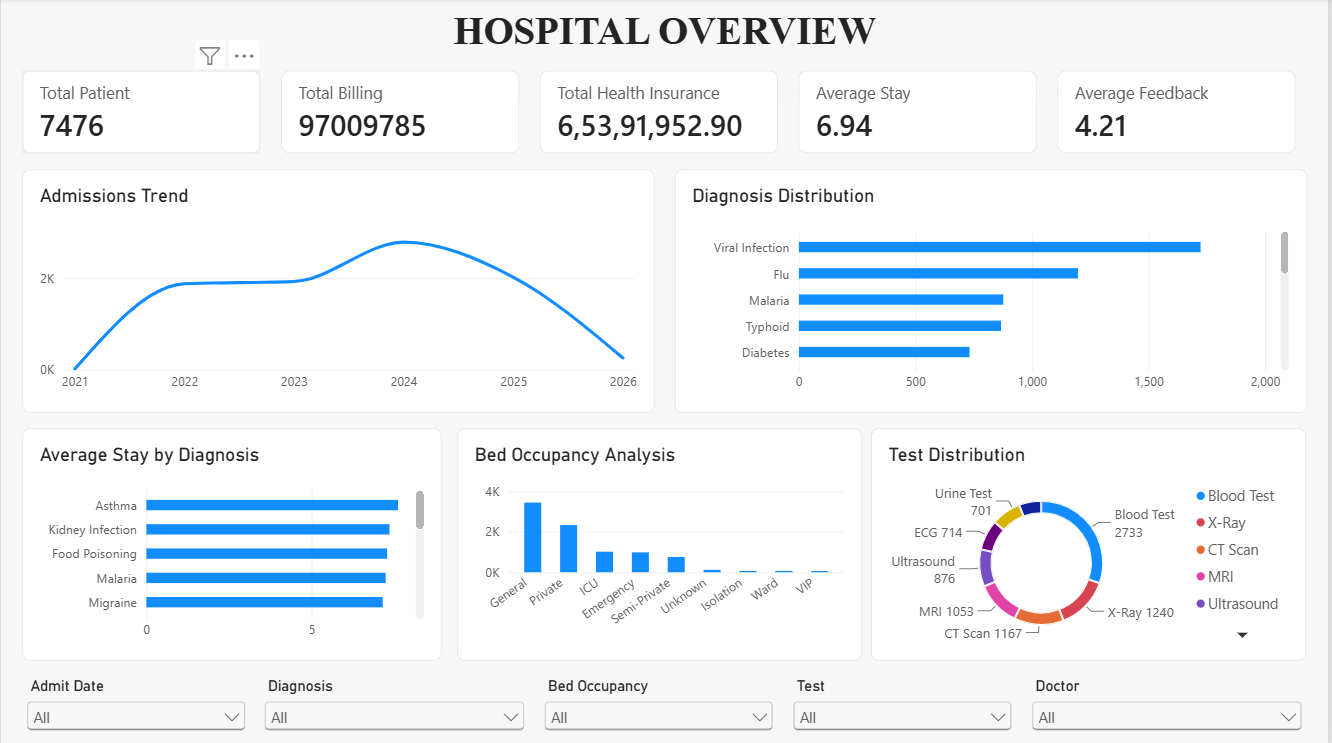

The page's visual inventory and layout, read from the dashboard file:
{"tool":"powerbi","page":{"name":"Hospital Overview","canvas":[1280,720],"ordinal":0},"visuals":[{"type":"textbox","box":[20,10,1240,45],"z":0},{"type":"cardVisual","fields":{"Data":["Count(Healthcare_Cleaned.Patient_ID)"]},"box":[20,70,230,80],"z":1000},{"type":"cardVisual","fields":{"Data":["Sum(Healthcare_Cleaned.Billing Amount)"]},"box":[270,70,230,80],"z":2000},{"type":"cardVisual","fields":{"Data":["Sum(Healthcare_Cleaned.Health Insurance Amount)"]},"box":[520,70,230,80],"z":3000},{"type":"cardVisual","fields":{"Data":["Avg(Healthcare_Cleaned.Stay_Days)"]},"box":[770,70,230,80],"z":4000},{"type":"cardVisual","fields":{"Data":["Avg(Healthcare_Cleaned.Feedback)"]},"box":[1020,70,230,80],"z":5000},{"type":"lineChart","title":"Admissions Trend","fields":{"Category":["Healthcare_Cleaned.Admit_Date.Variation.Date Hierarchy.Year","Healthcare_Cleaned.Admit_Date.Variation.Date Hierarchy.Quarter","Healthcare_Cleaned.Admit_Date.Variation.Date Hierarchy.Month"],"Y":["Count(Healthcare_Cleaned.Patient_ID)"]},"box":[20,165,610,235],"z":6000},{"type":"clusteredBarChart","title":"Diagnosis Distribution","fields":{"Category":["Healthcare_Cleaned.Diagnosis"],"Y":["Count(Healthcare_Cleaned.Patient_ID)"]},"box":[650,165,610,235],"z":7000},{"type":"clusteredBarChart","title":"Average Stay by Diagnosis","fields":{"Category":["Healthcare_Cleaned.Diagnosis"],"Y":["Avg(Healthcare_Cleaned.Stay_Days)"]},"box":[20,415,405,225],"z":8000},{"type":"clusteredColumnChart","title":"Bed Occupancy Analysis","fields":{"Category":["Healthcare_Cleaned.Bed_Occupancy"],"Y":["Count(Healthcare_Cleaned.Patient_ID)"]},"box":[440,415,390,225],"z":9000},{"type":"donutChart","title":"Test Distribution","fields":{"Category":["Healthcare_Cleaned.Test"],"Y":["Count(Healthcare_Cleaned.Patient_ID)"]},"box":[840,415,420,225],"z":10000},{"type":"slicer","fields":{"Values":["Healthcare_Cleaned.Admit_Date"]},"box":[20,655,220,60],"z":11000},{"type":"slicer","fields":{"Values":["Healthcare_Cleaned.Diagnosis"]},"box":[250,655,260,60],"z":12000},{"type":"slicer","fields":{"Values":["Healthcare_Cleaned.Bed_Occupancy"]},"box":[520,655,230,60],"z":13000},{"type":"slicer","fields":{"Values":["Healthcare_Cleaned.Test"]},"box":[760,655,220,60],"z":14000},{"type":"slicer","fields":{"Values":["Healthcare_Cleaned.Doctor"]},"box":[990,655,270,60],"z":15000}]}

Visuals, with their boxes in screenshot pixels (x1, y1, x2, y2), scaled from the page's 1280x720 canvas onto the 1332x743 screenshot:
textbox: x1=21 y1=10 x2=1311 y2=57
cardVisual - Count(Healthcare_Cleaned.Patient_ID): x1=21 y1=72 x2=260 y2=155
cardVisual - Sum(Healthcare_Cleaned.Billing Amount): x1=281 y1=72 x2=520 y2=155
cardVisual - Sum(Healthcare_Cleaned.Health Insurance Amount): x1=541 y1=72 x2=780 y2=155
cardVisual - Avg(Healthcare_Cleaned.Stay_Days): x1=801 y1=72 x2=1041 y2=155
cardVisual - Avg(Healthcare_Cleaned.Feedback): x1=1061 y1=72 x2=1301 y2=155
"Admissions Trend" lineChart: x1=21 y1=170 x2=656 y2=413
"Diagnosis Distribution" clusteredBarChart: x1=676 y1=170 x2=1311 y2=413
"Average Stay by Diagnosis" clusteredBarChart: x1=21 y1=428 x2=442 y2=660
"Bed Occupancy Analysis" clusteredColumnChart: x1=458 y1=428 x2=864 y2=660
"Test Distribution" donutChart: x1=874 y1=428 x2=1311 y2=660
slicer - Healthcare_Cleaned.Admit_Date: x1=21 y1=676 x2=250 y2=738
slicer - Healthcare_Cleaned.Diagnosis: x1=260 y1=676 x2=531 y2=738
slicer - Healthcare_Cleaned.Bed_Occupancy: x1=541 y1=676 x2=780 y2=738
slicer - Healthcare_Cleaned.Test: x1=791 y1=676 x2=1020 y2=738
slicer - Healthcare_Cleaned.Doctor: x1=1030 y1=676 x2=1311 y2=738
